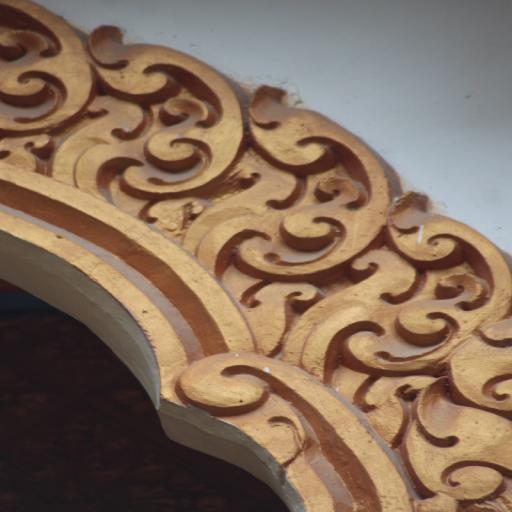lua: (227, 76, 400, 278), (334, 200, 510, 369), (90, 27, 241, 198), (402, 380, 512, 500), (0, 2, 90, 134), (458, 315, 512, 413)
